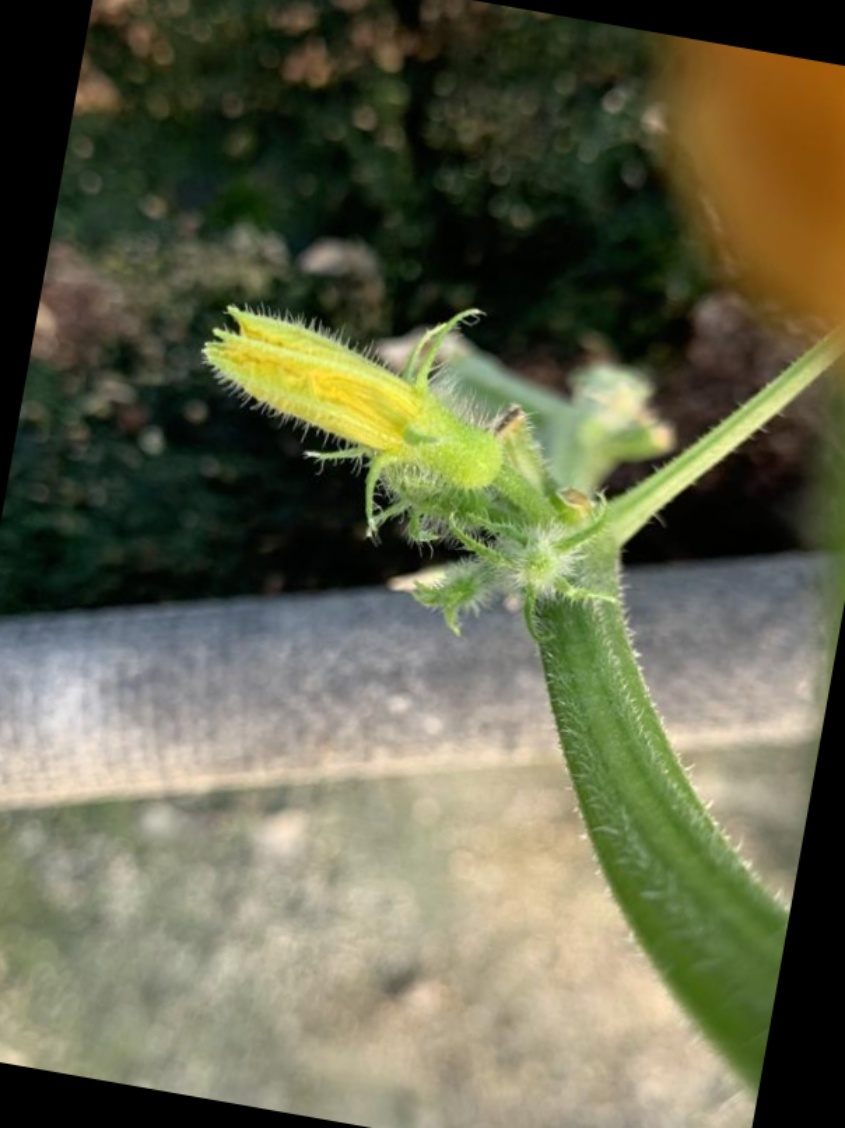bud: (196, 299, 552, 495)
